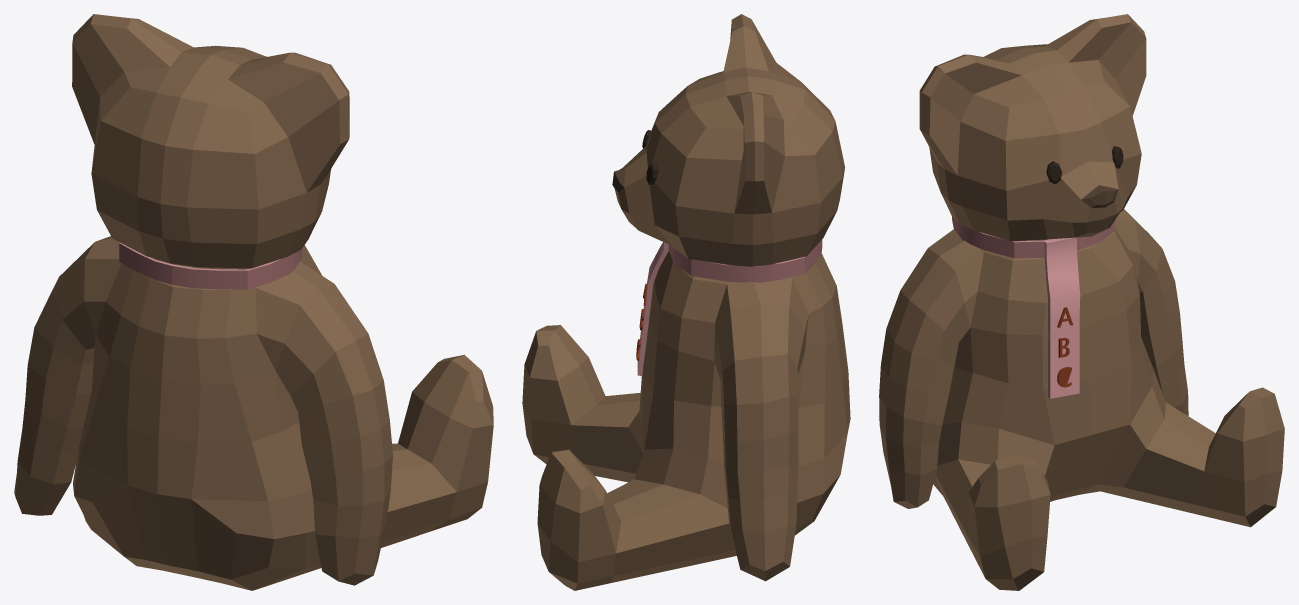
Rendered from Bear.fbx.
3 views of the same model, side by side, from view 1: azimuth 30°, elevation 25°; view 2: azimuth 150°, elevation 25°; view 3: azimuth 270°, elevation 25° (orthographic). The views are drawn at different scales.
Visible parts, largest first — view 1: Bear; view 2: Bear; view 3: Bear.
Boxes of the visible parts, x1,y1,x2,y2 form: Bear: (14, 14, 493, 590); Bear: (522, 14, 850, 590); Bear: (879, 14, 1284, 590).
Size of the model in its own units: 7.22 by 9.71 by 7.72.
1 material, 1 textured.
